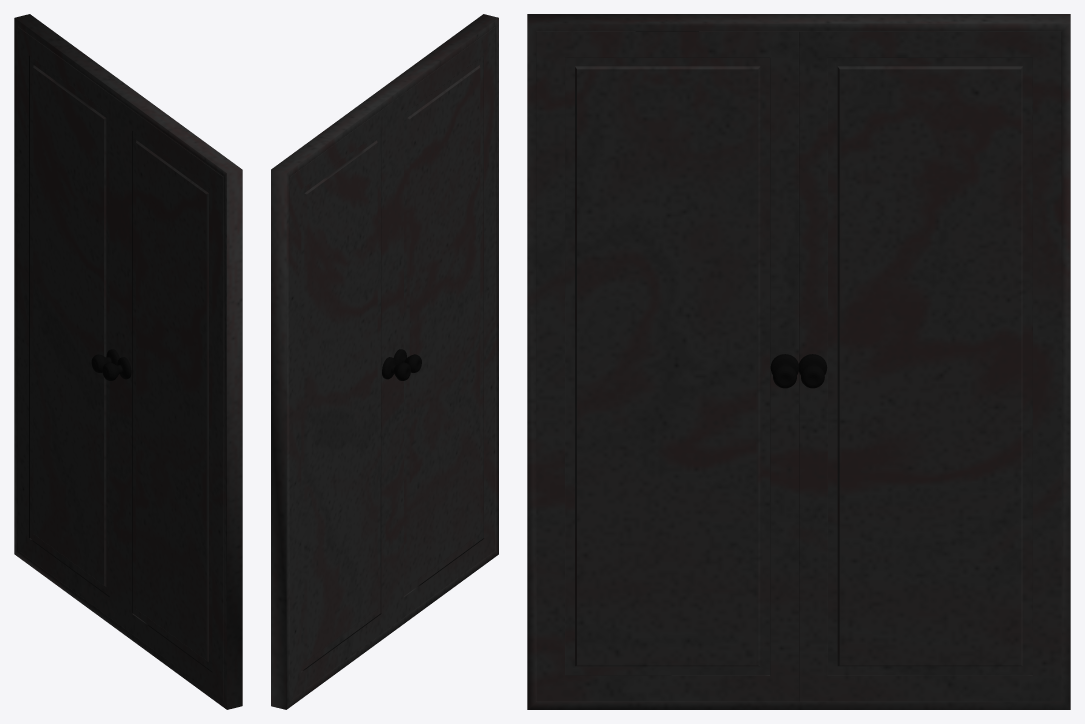
The model's file is PanelDoorFactory5447300.spawn_asset0.glb.
3 views of the same model, side by side, from view 1: azimuth 30°, elevation 25°; view 2: azimuth 150°, elevation 25°; view 3: azimuth 270°, elevation 25° (orthographic). The views are drawn at different scales.
Parts seen in each view (by area): view 1: PanelDoorFactory(5447300).spawn_asset(0).001; view 2: PanelDoorFactory(5447300).spawn_asset(0).001; view 3: PanelDoorFactory(5447300).spawn_asset(0).001.
Part boxes in pixels (<box>): PanelDoorFactory(5447300).spawn_asset(0).001: <box>14,14,242,709</box>; PanelDoorFactory(5447300).spawn_asset(0).001: <box>271,14,498,709</box>; PanelDoorFactory(5447300).spawn_asset(0).001: <box>527,14,1070,709</box>.
Bounding box in the file's own units: 0.2645 × 2.38 × 1.71.
Materials: 1 (1 with a texture image).
